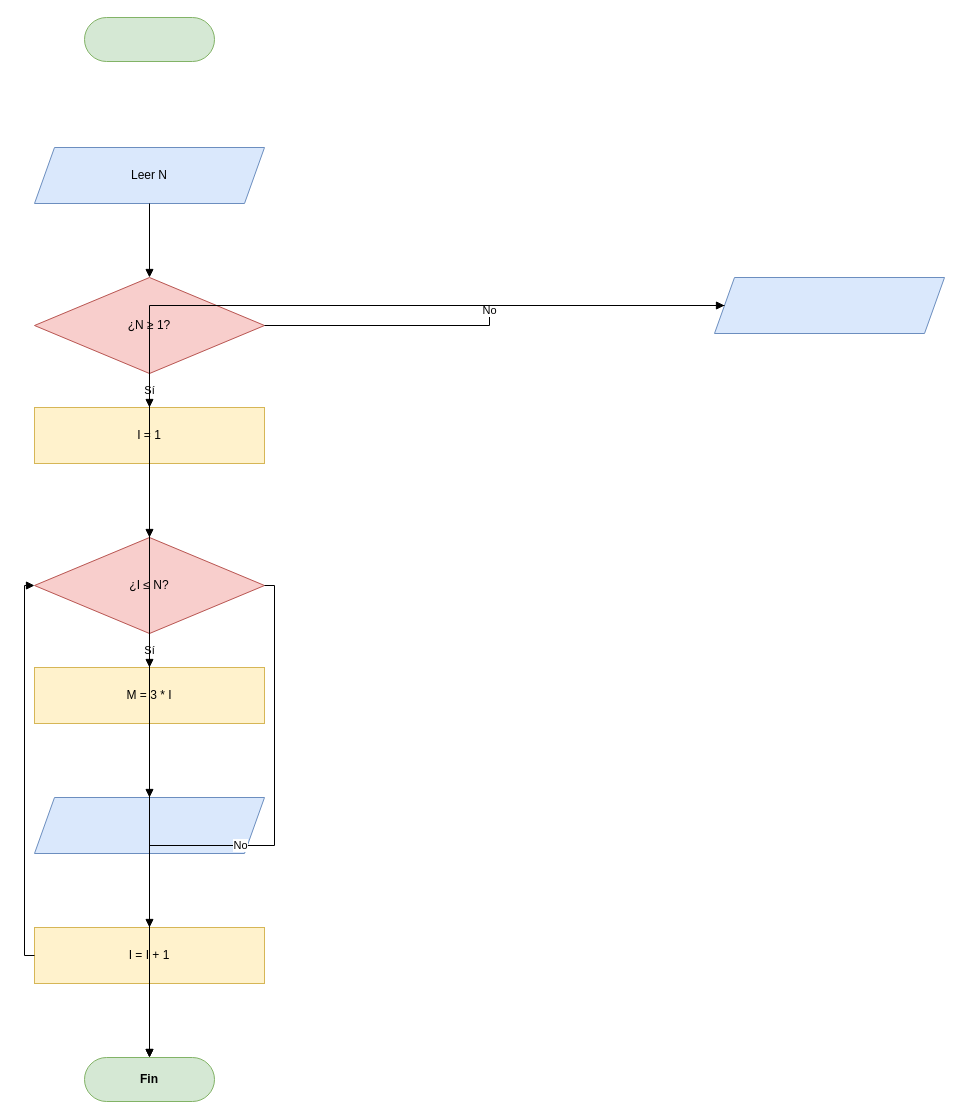
Image size: 962x1119. Some labels were removed from this diagram. The box of each missing label's shape, as (x1, y1, x2, y2) in pixels:
Escribir M: (34, 796, 264, 854)
Escribir: N debe ser ≥ 1: (714, 276, 944, 334)
Inicio: (84, 16, 214, 62)
